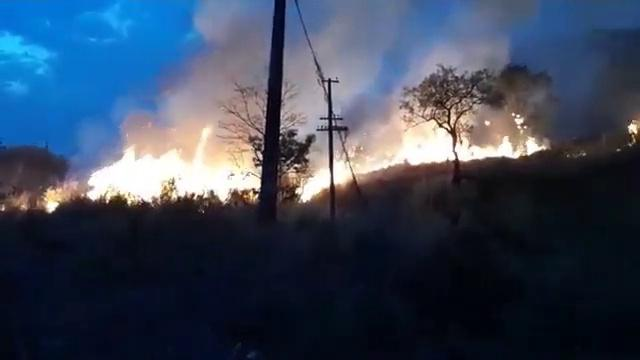smoke: (100, 157, 232, 187), (404, 135, 448, 163)
